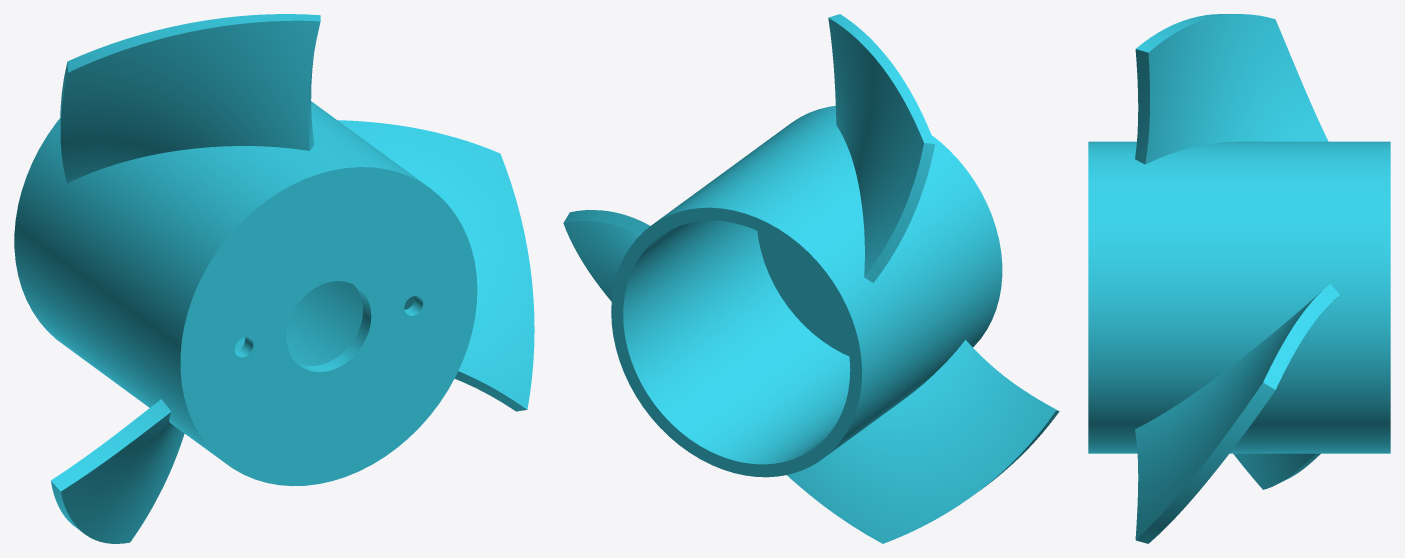
The model's file is Thruster Propeller v1.obj.
3 views of the same model, side by side, from view 1: azimuth 30°, elevation 25°; view 2: azimuth 150°, elevation 25°; view 3: azimuth 270°, elevation 25° (orthographic). The views are drawn at different scales.
Parts seen in each view (by area): view 1: Body1; view 2: Body1; view 3: Body1.
Part boxes in pixels (x1,y1,x2,y2): Body1: [14, 14, 534, 543]; Body1: [563, 14, 1059, 543]; Body1: [1088, 14, 1390, 543].
Size of the model in its own units: 54.61 by 55.1 by 30.5.
